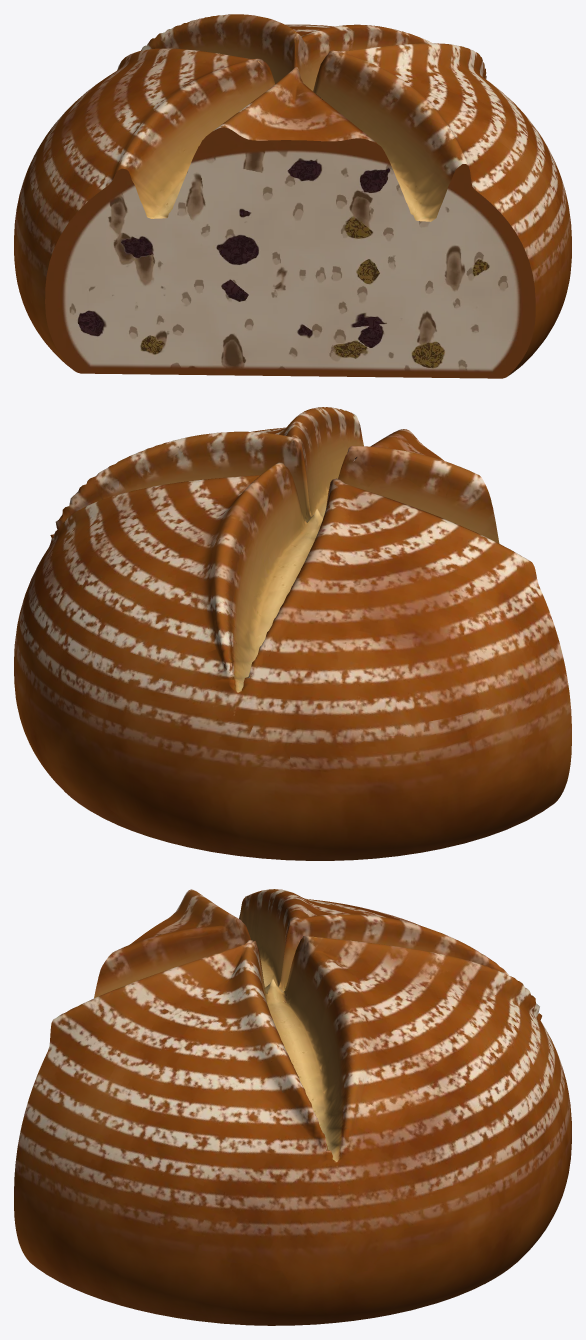
File: campagne--raisin-flesh.glb
3 views of the same model, one above another, from view 1: azimuth 30°, elevation 25°; view 2: azimuth 150°, elevation 25°; view 3: azimuth 270°, elevation 25° (orthographic). The views are drawn at different scales.
Visible parts, largest first — view 1: campagne_raisin-flesh; view 2: campagne_raisin-flesh; view 3: campagne_raisin-flesh.
Part boxes in pixels (x1=…): campagne_raisin-flesh: x1=14, y1=14, x2=571, y2=378; campagne_raisin-flesh: x1=14, y1=407, x2=571, y2=860; campagne_raisin-flesh: x1=14, y1=889, x2=571, y2=1325.
Bounding box in the file's own units: 0.9984 × 0.5303 × 0.9338.
1 material, 1 textured.
